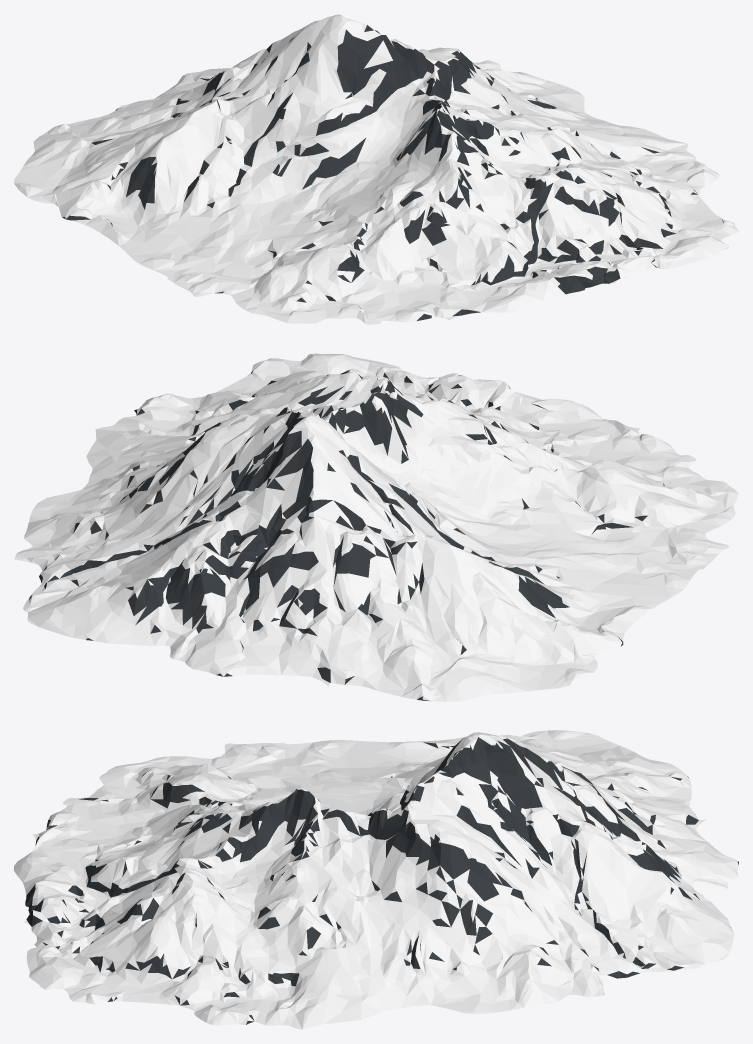
File: isle_mountains.gltf
The picture shows the model from 3 angles, top to bottom: view 1: azimuth 30°, elevation 25°; view 2: azimuth 150°, elevation 25°; view 3: azimuth 270°, elevation 25°; orthographic projection. The views are drawn at different scales.
Parts seen in each view (by area): view 1: isle_mountains; view 2: isle_mountains; view 3: isle_mountains.
Boxes of the visible parts, box(x1,y1,x2,y2) form: isle_mountains: box(14, 14, 738, 324); isle_mountains: box(14, 353, 738, 701); isle_mountains: box(14, 730, 738, 1029).
Size of the model in its own units: 23.8 by 5.63 by 24.37.
1 material, 1 textured.
